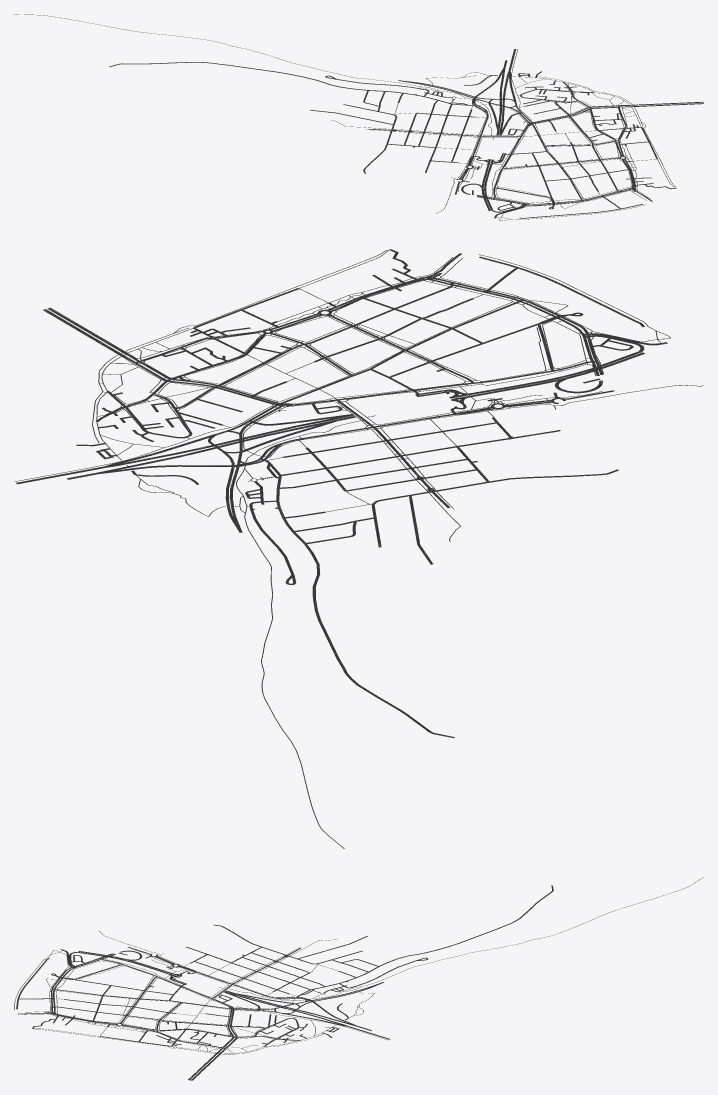
File: roads.glb
3 views of the same model, one above another, from view 1: azimuth 30°, elevation 25°; view 2: azimuth 150°, elevation 25°; view 3: azimuth 270°, elevation 25° (orthographic). The views are drawn at different scales.
Parts seen in each view (by area): view 1: map_18.osm_roads_tertiary, map_18.osm_paths_cycleway, map_18.osm_roads_trunk; view 2: map_18.osm_roads_tertiary, map_18.osm_paths_cycleway, map_18.osm_roads_trunk; view 3: map_18.osm_roads_tertiary, map_18.osm_paths_cycleway, map_18.osm_roads_trunk.
Boxes of the visible parts, x1=… form: map_18.osm_roads_tertiary: x1=109, y1=62, x2=703, y2=218; map_18.osm_paths_cycleway: x1=14, y1=14, x2=703, y2=220; map_18.osm_roads_trunk: x1=461, y1=49, x2=527, y2=218; map_18.osm_roads_tertiary: x1=43, y1=249, x2=644, y2=738; map_18.osm_paths_cycleway: x1=14, y1=250, x2=703, y2=848; map_18.osm_roads_trunk: x1=16, y1=333, x2=667, y2=484; map_18.osm_roads_tertiary: x1=16, y1=885, x2=553, y2=1080; map_18.osm_paths_cycleway: x1=14, y1=877, x2=703, y2=1080; map_18.osm_roads_trunk: x1=60, y1=949, x2=390, y2=1039.
Bounding box in the file's own units: 5561 × 0.01 × 7953.
Materials: 1 (1 with a texture image).
